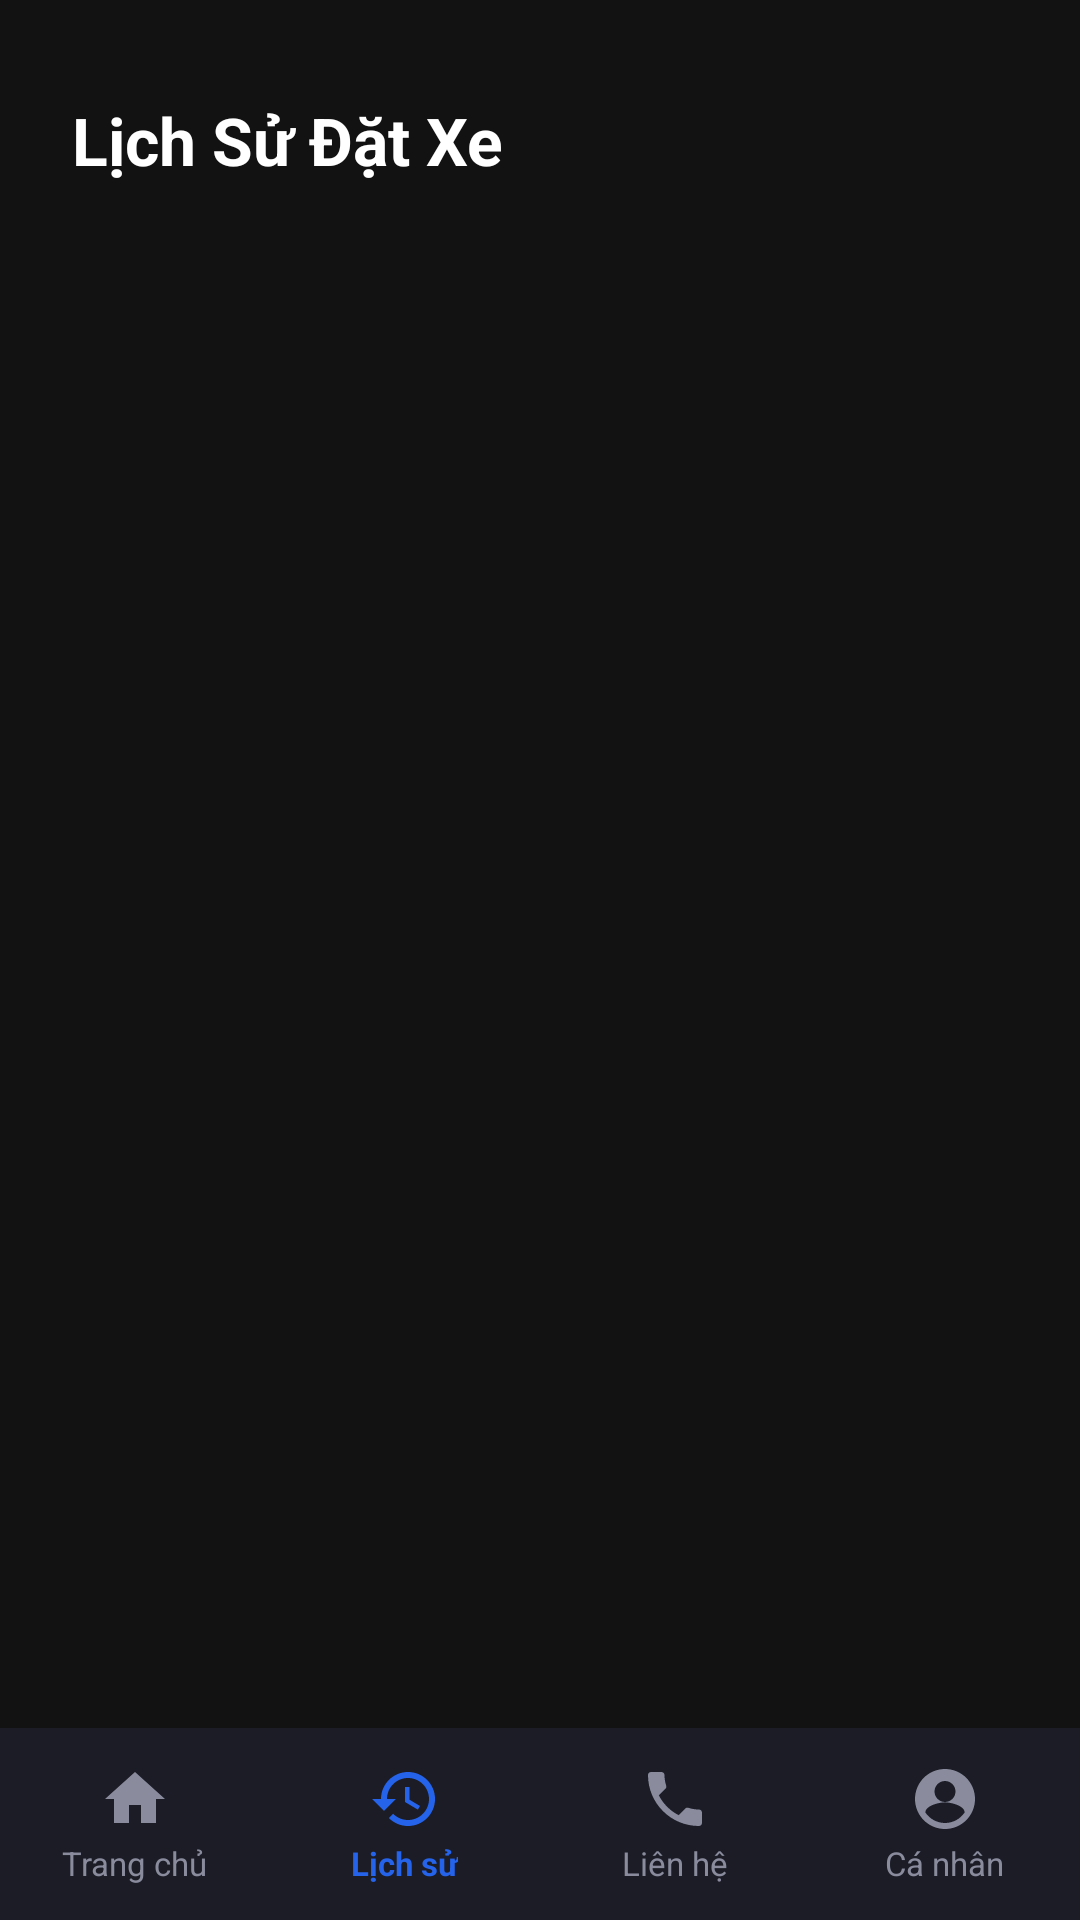

Icon bounding boxes for this 1080x1920 phone screenshot, format (x1, y1, x2, y2):
phone: (648, 1772, 702, 1826)
